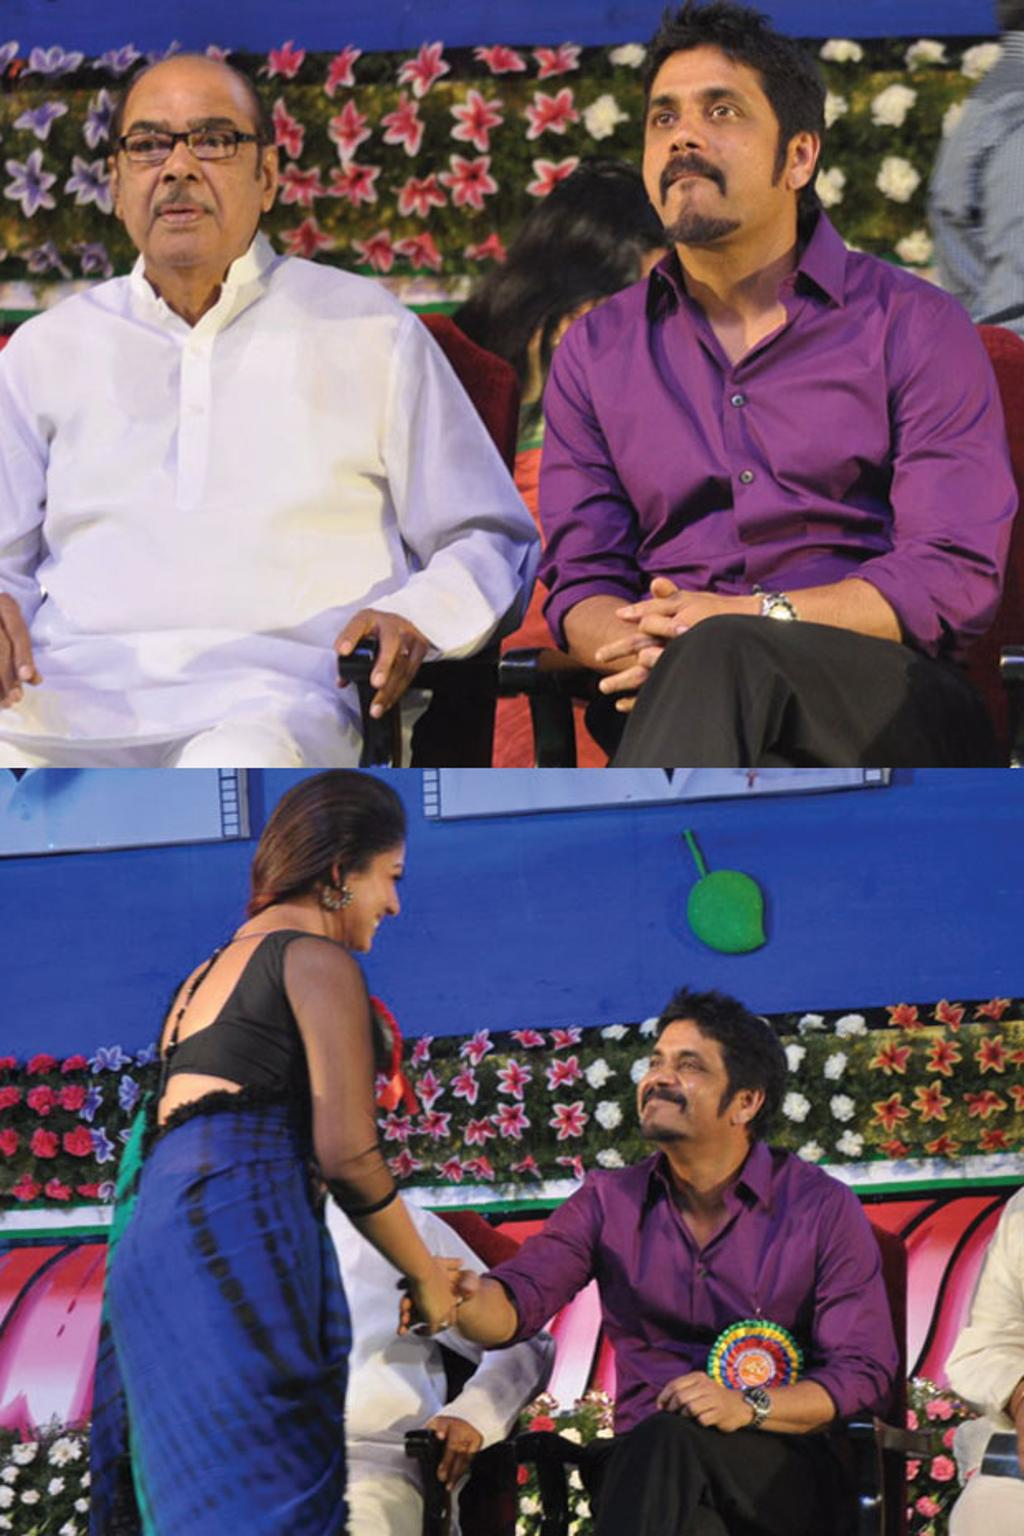face: (114, 60, 261, 264), (640, 39, 793, 231), (637, 1015, 730, 1132), (342, 799, 405, 949)
